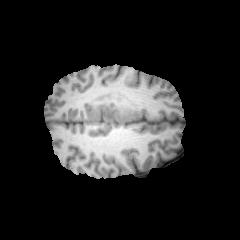glioma: (86, 91, 138, 123)
